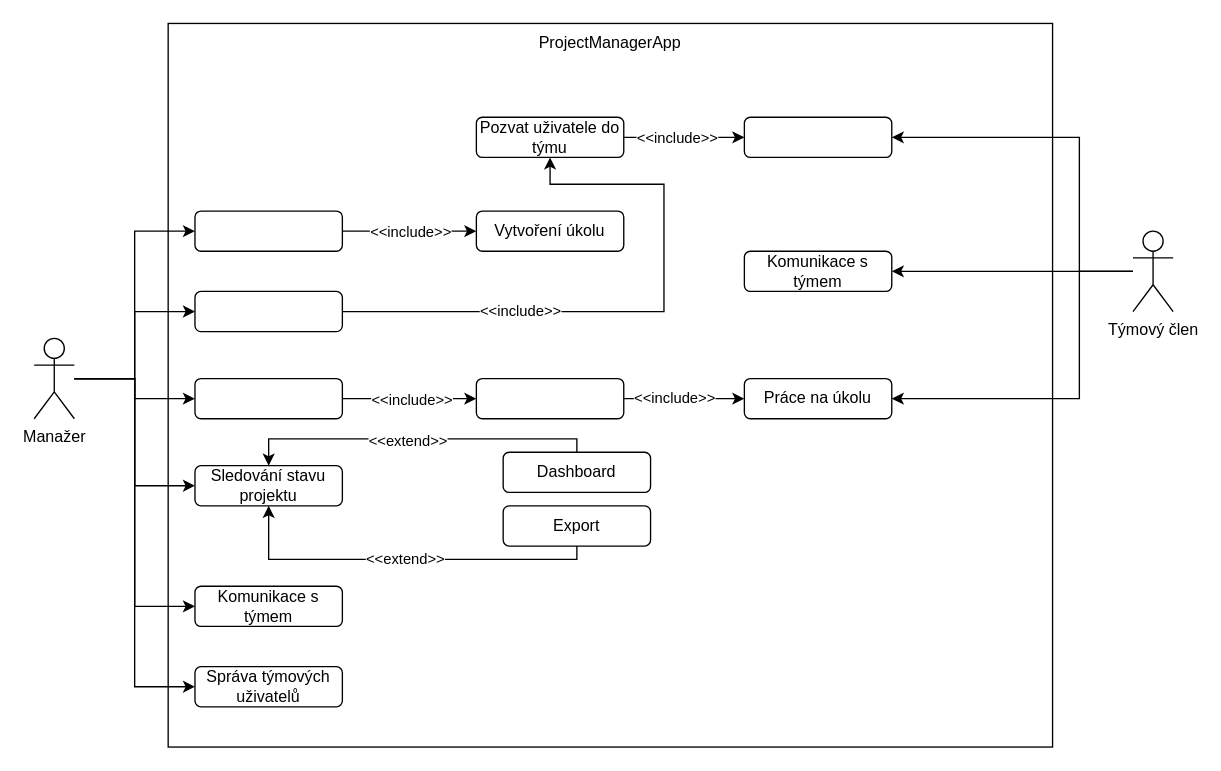
Image size: 1221x771. Some labels were removed from this diagram. Each missing label, with the centre of its shape:
"Práce na projektu" goes at point 817,136.
"Přiřadit uživatele k úkolu" goes at point 549,398.
"Správa projektu" goes at point 268,311.
"Správa úkolů" goes at point 268,398.
"Vytvořit projekt" goes at point 268,230.
